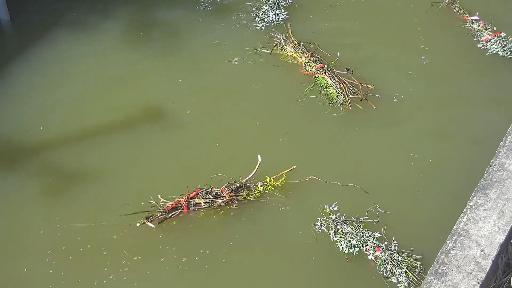twig: (118, 146, 380, 230), (270, 24, 422, 118), (321, 200, 416, 283), (425, 0, 512, 68), (211, 0, 310, 35)
